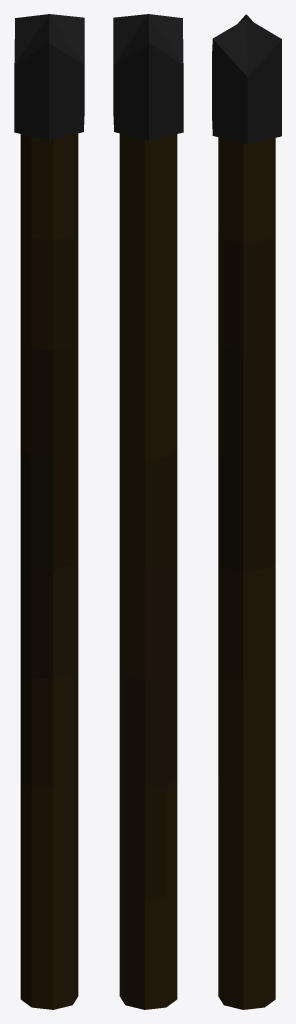
Rendered from torchstand.gltf.
The picture shows the model from 3 angles, left to right: view 1: azimuth 30°, elevation 25°; view 2: azimuth 150°, elevation 25°; view 3: azimuth 330°, elevation 25°; orthographic projection.
Parts seen in each view (by area): view 1: cylinder, sphere; view 2: cylinder, sphere; view 3: cylinder, sphere.
Part boxes in pixels (bbox=[...]): cylinder: bbox=[20, 133, 78, 1009]; sphere: bbox=[14, 14, 84, 140]; cylinder: bbox=[119, 133, 177, 1009]; sphere: bbox=[113, 14, 183, 140]; cylinder: bbox=[218, 137, 275, 1009]; sphere: bbox=[212, 14, 281, 144].
Size of the model in its own units: 0.0938 by 1.26 by 0.0781.
Materials: 1 (1 with a texture image).
